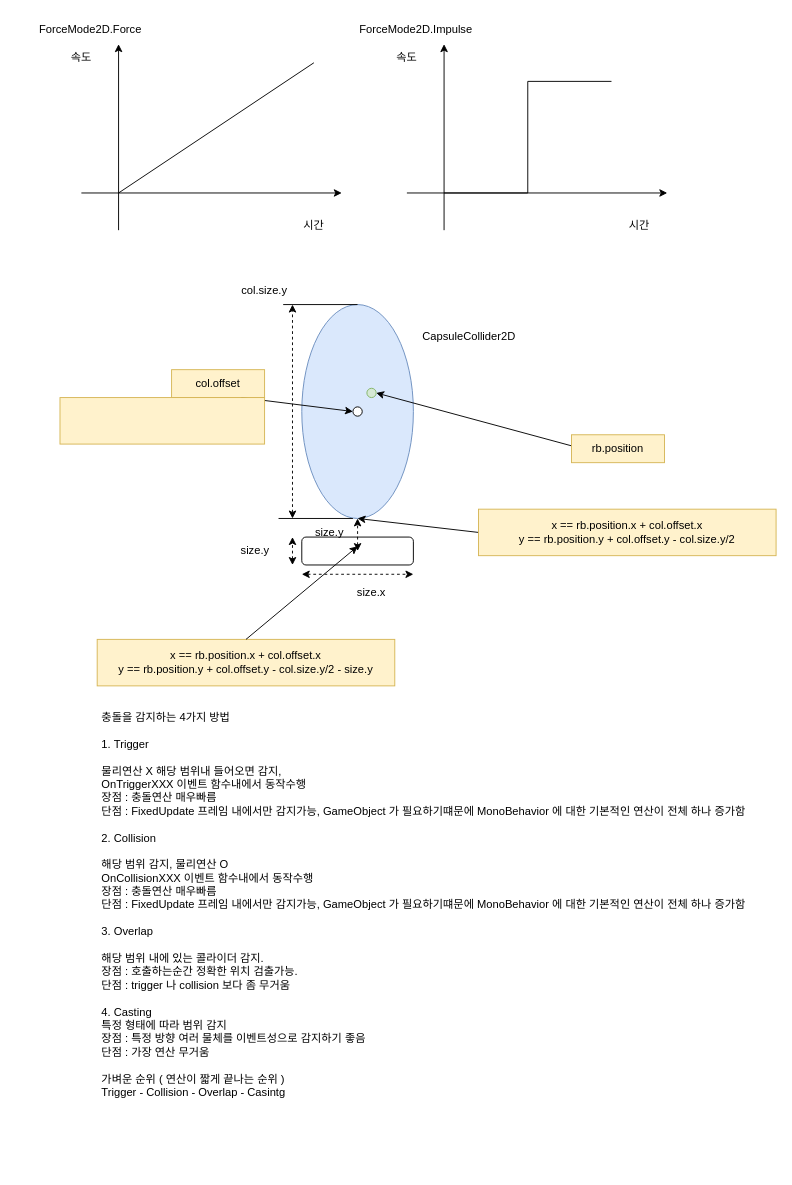
The diagram is 792 pixels wide and 1185 high, and some of its shapes have lost their labels. Each missing label, with the box of its shape:
x == rb.position.x + col.offset.x y == rb.position.y + col.offset.y: (59, 397, 265, 444)
감지하고싶은범위: (301, 536, 413, 565)
